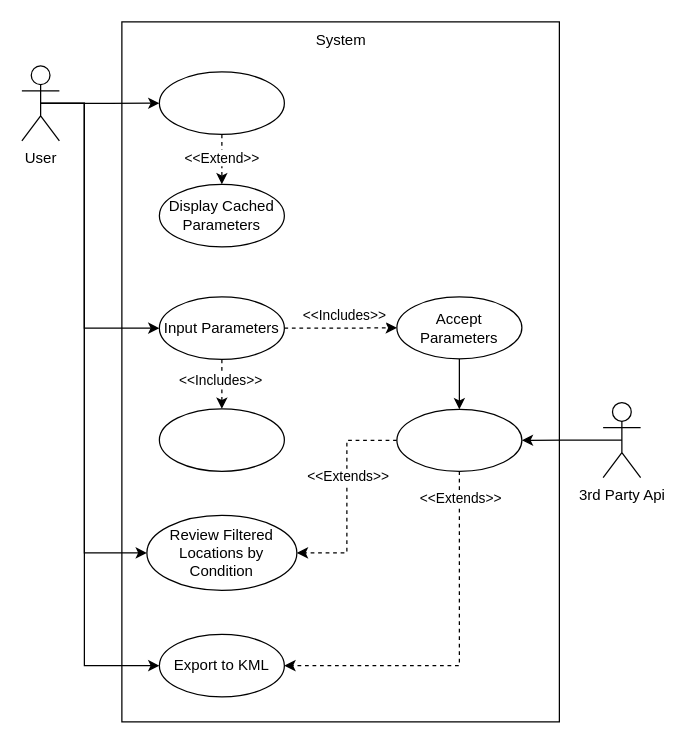
The diagram is 686 pixels wide and 744 high, and some of its shapes have lost their labels. The centre of each missing label's shape, as x and y in pixels:
"Display Filtered Locations" goes at point (459, 439).
"Open Application" goes at point (221, 102).
"Reject Parameters" goes at point (221, 439).
